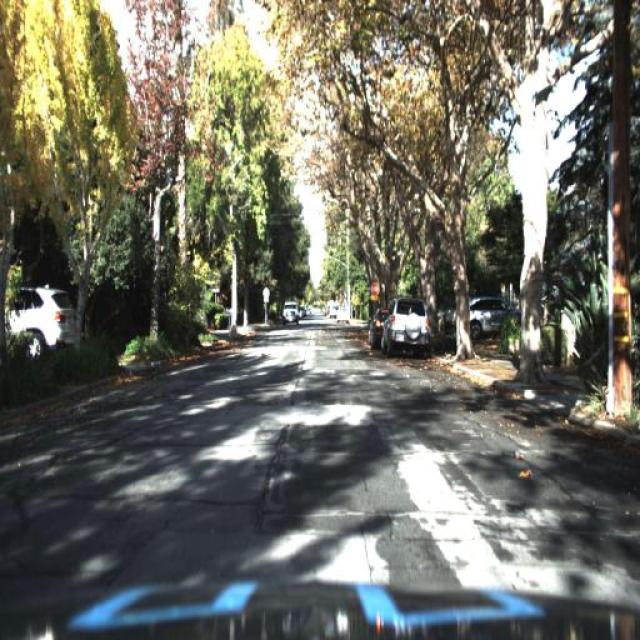car: (0, 278, 86, 370), (455, 288, 521, 337), (381, 296, 433, 358), (368, 306, 388, 352), (280, 299, 299, 330), (333, 302, 352, 331)
